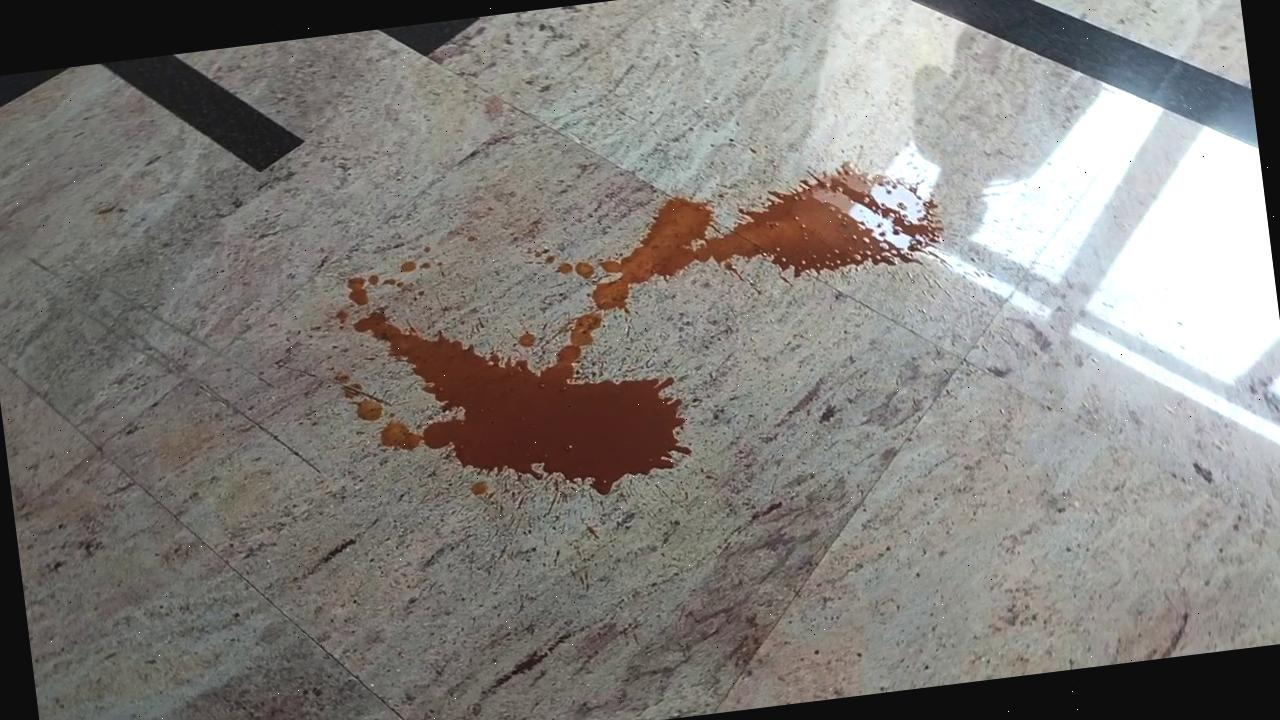dirty_floor: (324, 153, 972, 528)
